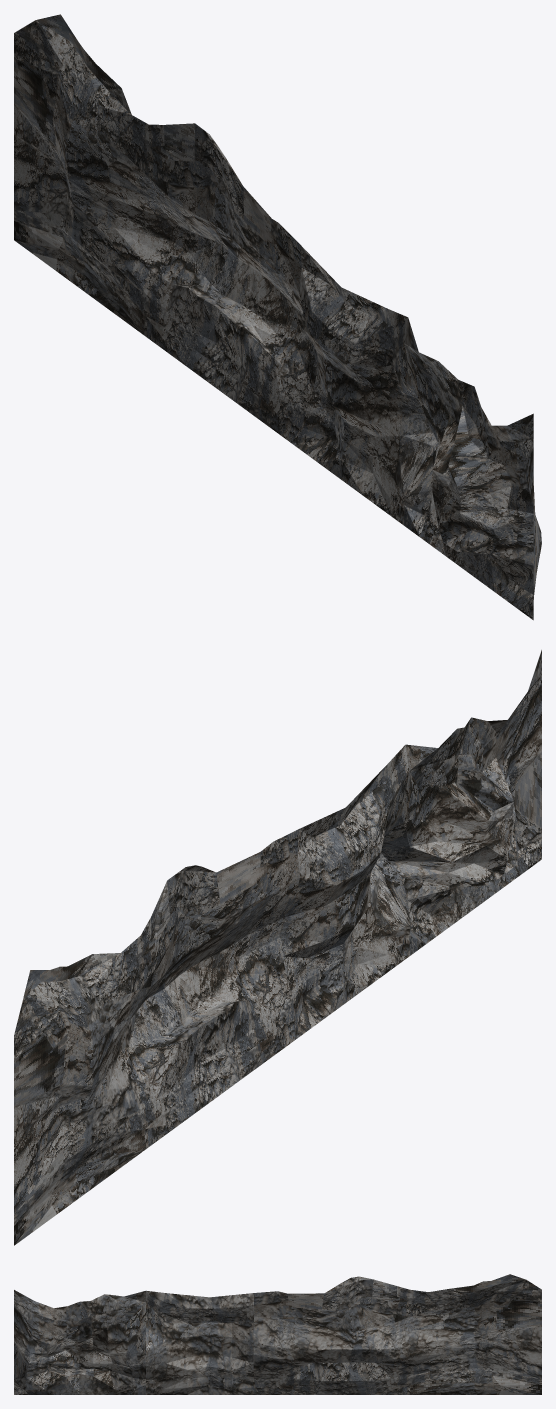
File: wallTop_02_long.glb
3 views of the same model, one above another, from view 1: azimuth 30°, elevation 25°; view 2: azimuth 150°, elevation 25°; view 3: azimuth 270°, elevation 25° (orthographic). The views are drawn at different scales.
Visible parts, largest first — view 1: wallTop_02_long; view 2: wallTop_02_long; view 3: wallTop_02_long.
Part boxes in pixels (left/top/right/bottom): wallTop_02_long: left=14, top=14, right=541, bottom=620; wallTop_02_long: left=14, top=650, right=541, bottom=1245; wallTop_02_long: left=14, top=1274, right=541, bottom=1394.
Bounding box in the file's own units: 5.18 × 16.65 × 64.
Materials: 1 (1 with a texture image).
